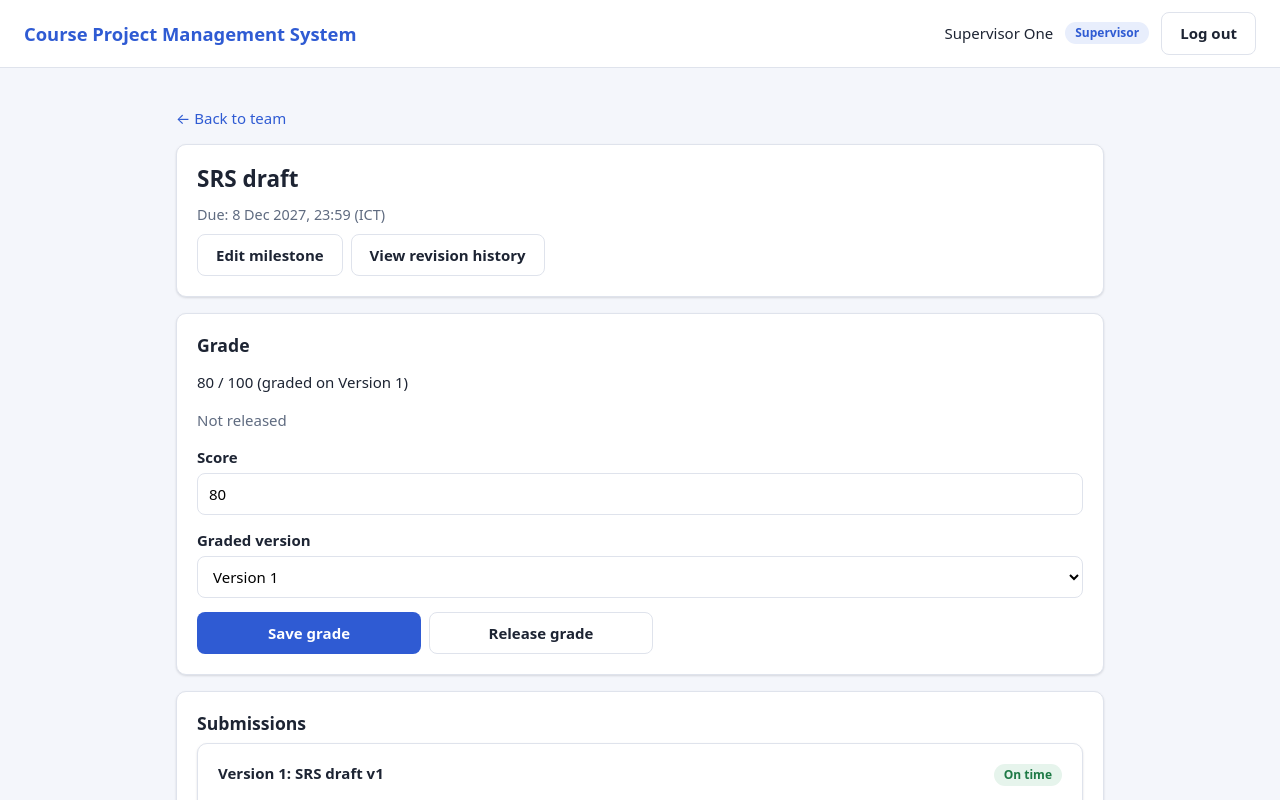
Test: Defect #103 Grade card button layout (F-08 v0.16) › TEST-08-22: the card alert comes after the one-row actions container that holds Save grade and Release grade
The image size is (1280, 800).
Expected: the text "80 / 100 (graded on Version 1)" is shown, [197,372,408,392]
Replace the text in the number field labelled "Score" with "95" at point(640, 494), box [197,473,1083,516]
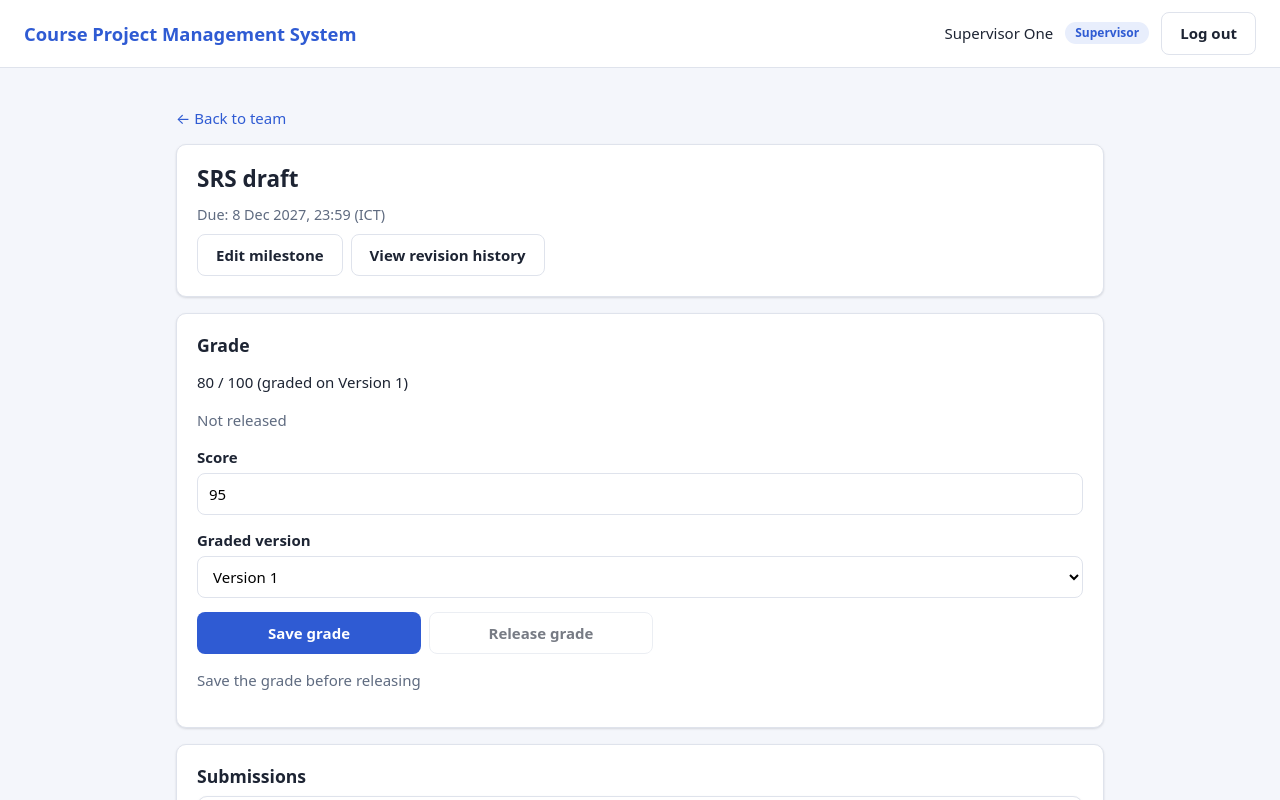
Click the button "Save grade" at point(309, 633), box [197,612,421,654]
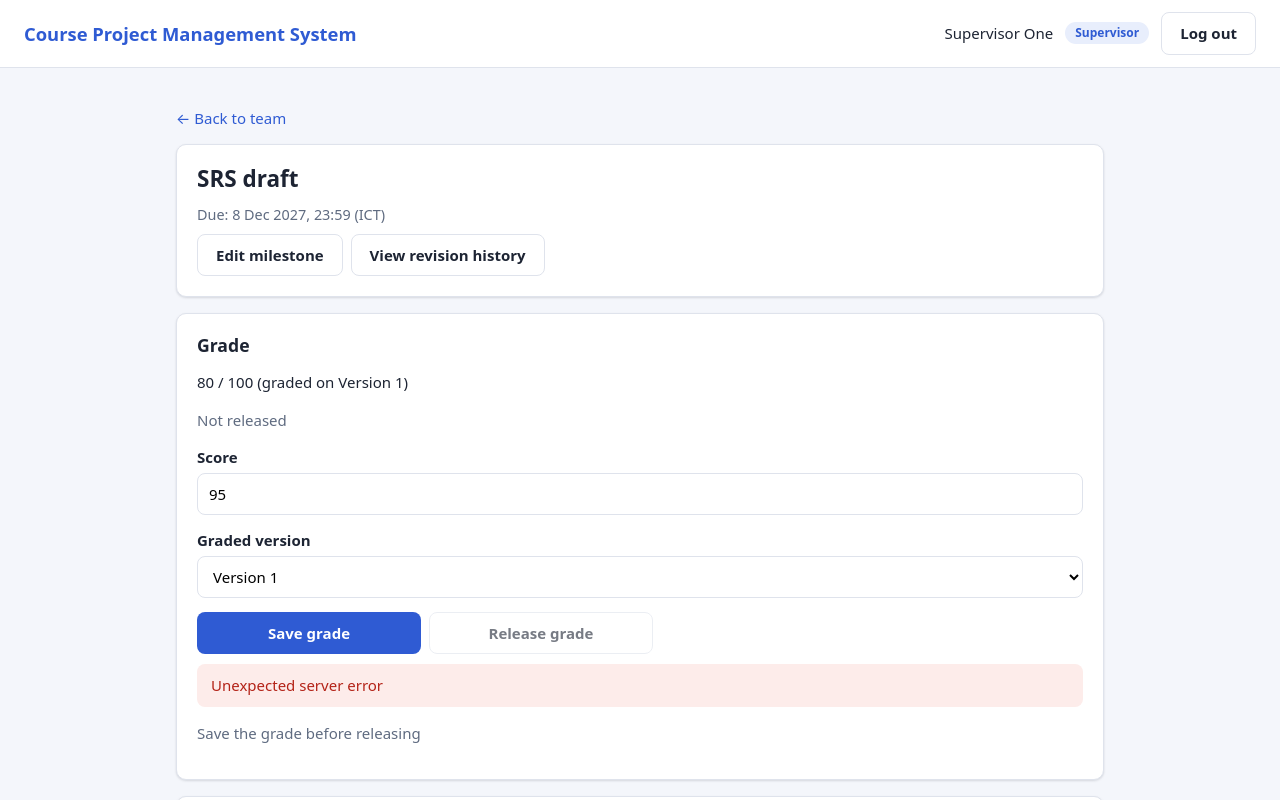
Expected: the message "Unexpected server error" is shown, [197,664,1083,707]
// Control: the retry saves, the alert clears, and one click on Release grade still releases.
Click the button "Save grade" at point(309, 633), box [197,612,421,654]
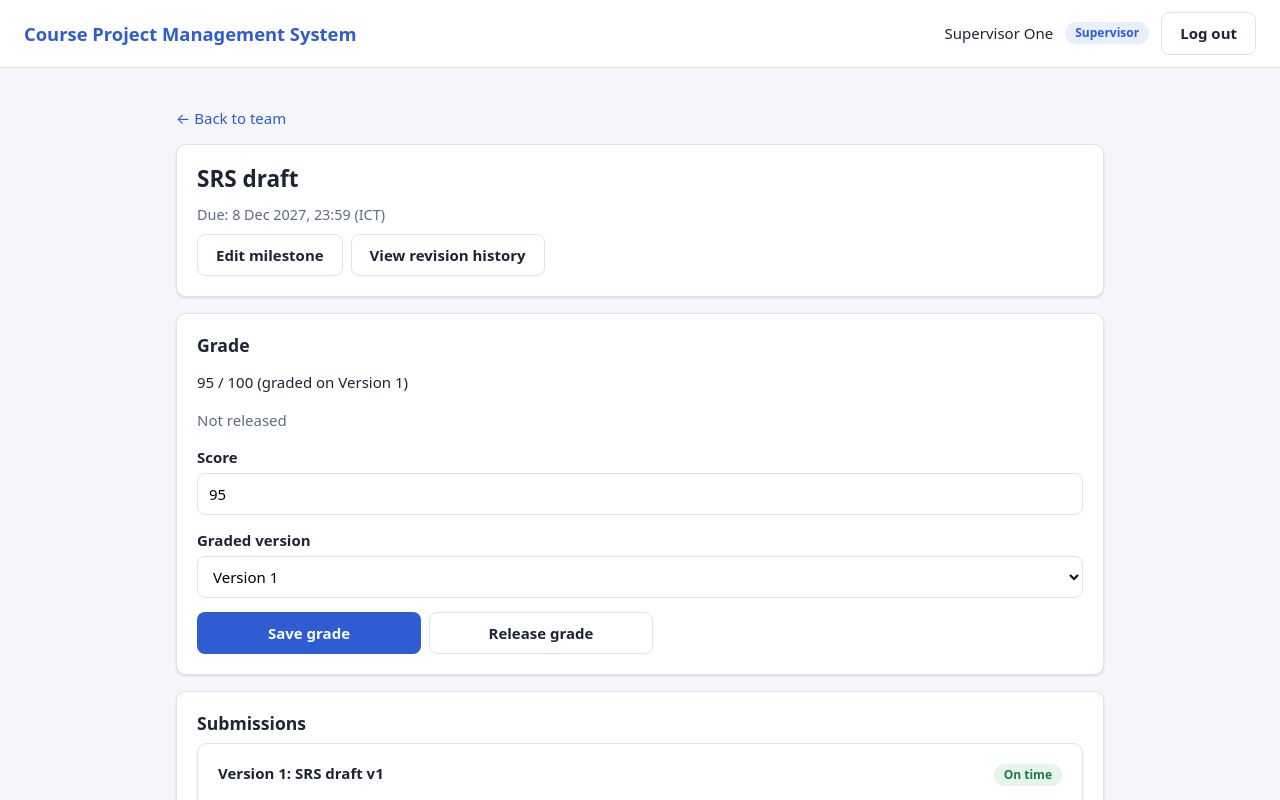
Expected: the text "95 / 100 (graded on Version 1)" is shown, [197,372,408,392]
Expected: the message "Unexpected server error" is gone
Expected: the button "Release grade" is enabled, [429,612,653,654]
